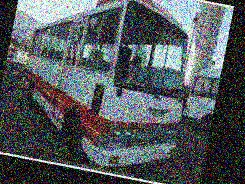bus: (7, 0, 205, 179)
